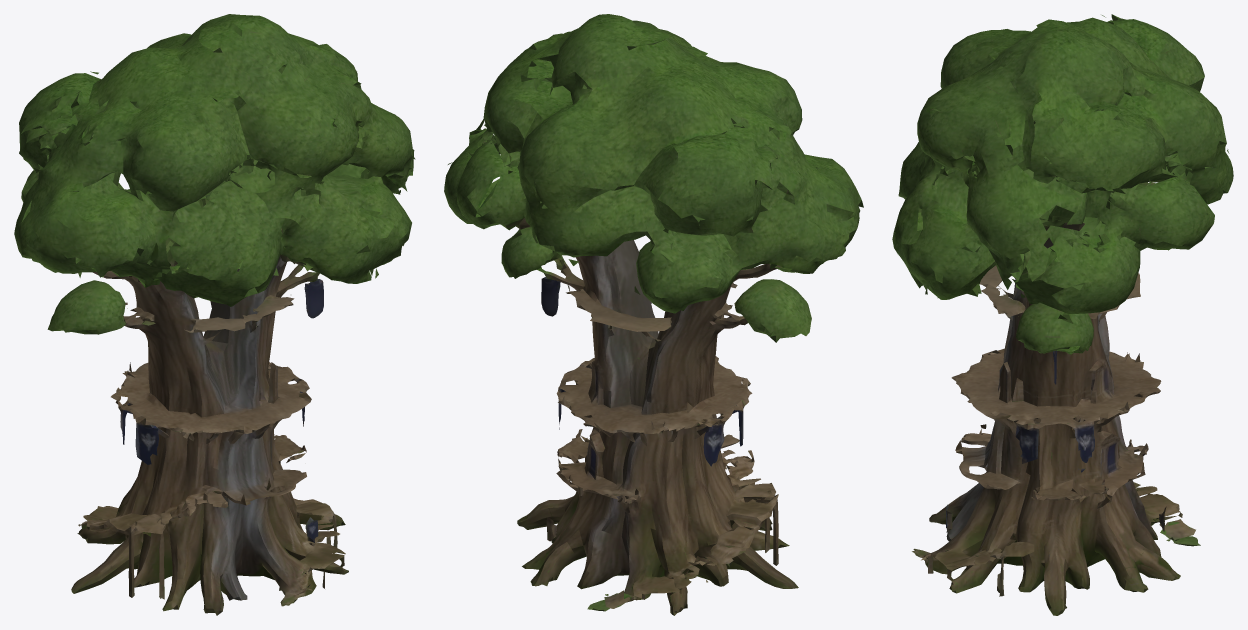
The model's file is stormwood_stormheart_v3_far.glb.
3 renders of one model, left to right at view 1: azimuth 30°, elevation 25°; view 2: azimuth 150°, elevation 25°; view 3: azimuth 270°, elevation 25°, orthographic.
Parts seen in each view (by area): view 1: Mesh_0; view 2: Mesh_0; view 3: Mesh_0.
Boxes of the visible parts, left/top/right/bottom form: Mesh_0: left=14, top=14, right=415, bottom=615; Mesh_0: left=444, top=14, right=863, bottom=615; Mesh_0: left=892, top=14, right=1233, bottom=615.
Size of the model in its own units: 1.44 by 1.88 by 1.09.
1 material, 1 textured.
